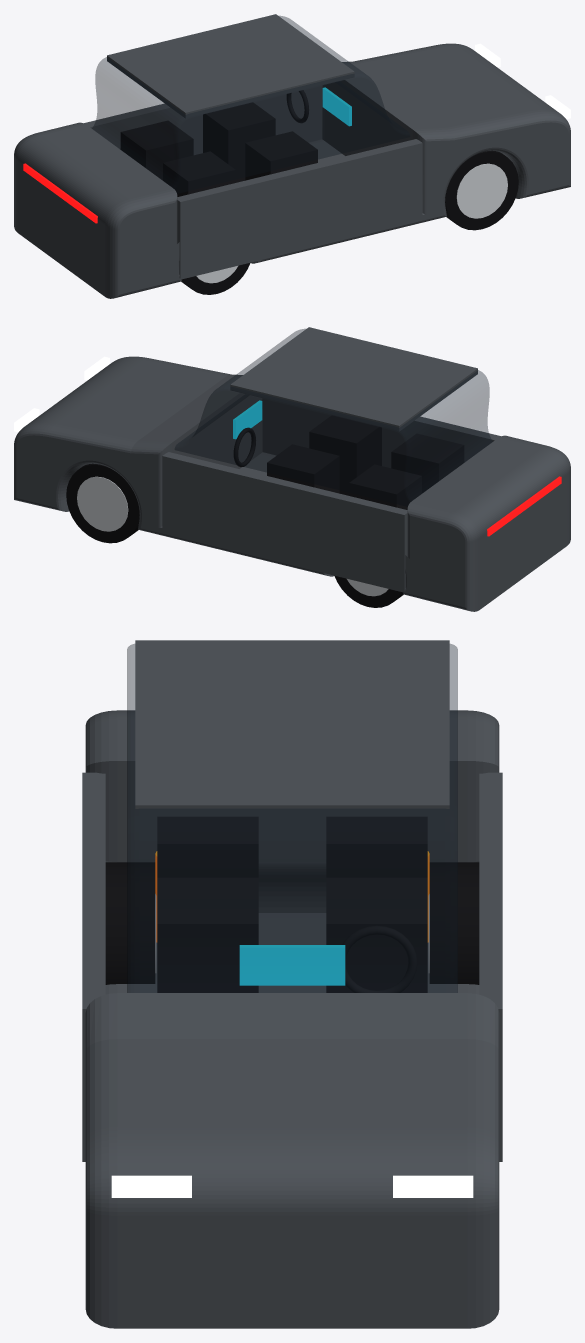
Rendered from everest.glb.
The picture shows the model from 3 angles, top to bottom: view 1: azimuth 30°, elevation 25°; view 2: azimuth 150°, elevation 25°; view 3: azimuth 270°, elevation 25°; orthographic projection. The views are drawn at different scales.
Visible parts, largest first — view 1: Exterior_Body_Shell, Cabin_Window_Glass, Door_Right_Body, Roof_Body_Panel, Door_Left_Body, Interior_Seat_Driver, Interior_Seat_RearL, Interior_Seat_Passenger, Wheel_Tire_FL, Interior_Seat_RearR, Wheel_Rim_FL, Wheel_Tire_RL (+3 smaller); view 2: Exterior_Body_Shell, Cabin_Window_Glass, Door_Left_Body, Roof_Body_Panel, Door_Right_Body, Interior_Seat_Passenger, Interior_Seat_RearR, Interior_Seat_Driver, Wheel_Tire_FR, Interior_Seat_RearL, Wheel_Rim_FR, Wheel_Tire_RR (+4 smaller); view 3: Exterior_Body_Shell, Cabin_Window_Glass, Roof_Body_Panel, Interior_Seat_Passenger, Interior_Seat_Driver, Interior_Seat_RearL, Interior_Seat_RearR, Wheel_Tire_RL, Wheel_Tire_RR, Door_Left_Body, Door_Right_Body, Center_Display_Screen_HUD (+3 smaller).
Part boxes in pixels (left/top/right/bottom): Exterior_Body_Shell: left=14, top=43, right=570, bottom=298; Cabin_Window_Glass: left=92, top=16, right=409, bottom=193; Door_Right_Body: left=177, top=139, right=422, bottom=278; Roof_Body_Panel: left=107, top=14, right=354, bottom=118; Door_Left_Body: left=84, top=85, right=322, bottom=154; Interior_Seat_Driver: left=203, top=102, right=275, bottom=182; Interior_Seat_RearL: left=120, top=120, right=193, bottom=180; Interior_Seat_Passenger: left=245, top=131, right=317, bottom=180; Wheel_Tire_FL: left=445, top=150, right=518, bottom=230; Interior_Seat_RearR: left=163, top=151, right=235, bottom=196; Wheel_Rim_FL: left=456, top=163, right=507, bottom=218; Wheel_Tire_RL: left=181, top=262, right=250, bottom=294; Exterior_Body_Shell: left=14, top=356, right=570, bottom=611; Cabin_Window_Glass: left=175, top=329, right=492, bottom=506; Door_Left_Body: left=162, top=452, right=407, bottom=591; Roof_Body_Panel: left=230, top=327, right=477, bottom=431; Door_Right_Body: left=262, top=398, right=500, bottom=467; Interior_Seat_Passenger: left=309, top=415, right=381, bottom=495; Interior_Seat_RearR: left=391, top=433, right=464, bottom=493; Interior_Seat_Driver: left=267, top=444, right=339, bottom=493; Wheel_Tire_FR: left=66, top=463, right=139, bottom=543; Interior_Seat_RearL: left=349, top=464, right=421, bottom=509; Wheel_Rim_FR: left=77, top=476, right=128, bottom=531; Wheel_Tire_RR: left=334, top=575, right=403, bottom=607; Exterior_Body_Shell: left=85, top=710, right=499, bottom=1328; Cabin_Window_Glass: left=127, top=644, right=457, bottom=992; Roof_Body_Panel: left=135, top=640, right=449, bottom=816; Interior_Seat_Passenger: left=157, top=877, right=258, bottom=992; Interior_Seat_Driver: left=326, top=877, right=427, bottom=992; Interior_Seat_RearL: left=326, top=816, right=427, bottom=877; Interior_Seat_RearR: left=157, top=816, right=258, bottom=877; Wheel_Tire_RL: left=105, top=862, right=155, bottom=984; Wheel_Tire_RR: left=429, top=862, right=479, bottom=984; Door_Left_Body: left=479, top=772, right=502, bottom=1161; Door_Right_Body: left=82, top=772, right=105, bottom=1161; Center_Display_Screen_HUD: left=239, top=945, right=345, bottom=985.
Bounding box in the file's own units: 5.1 × 1.89 × 1.99.
